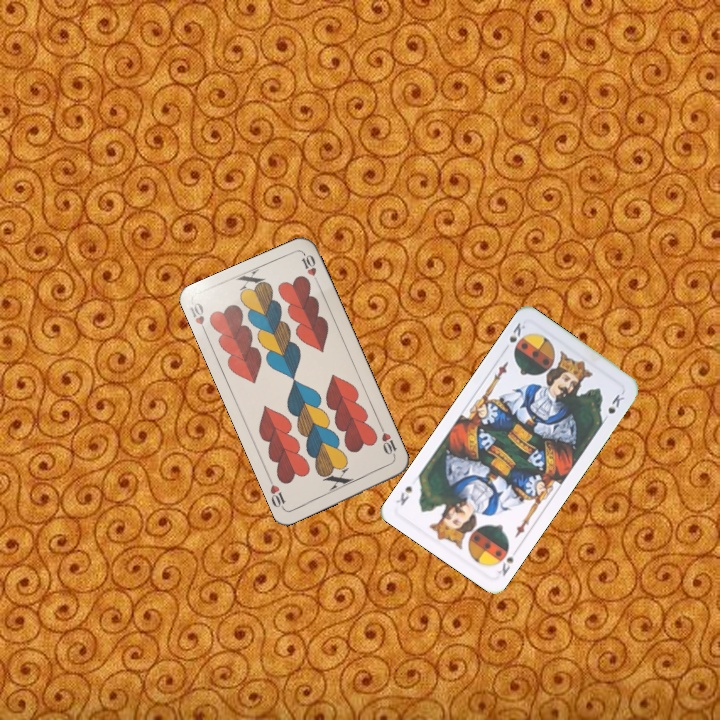H10: (186, 298, 210, 338), (376, 423, 400, 462)
SK: (492, 541, 520, 580), (505, 318, 528, 345)
